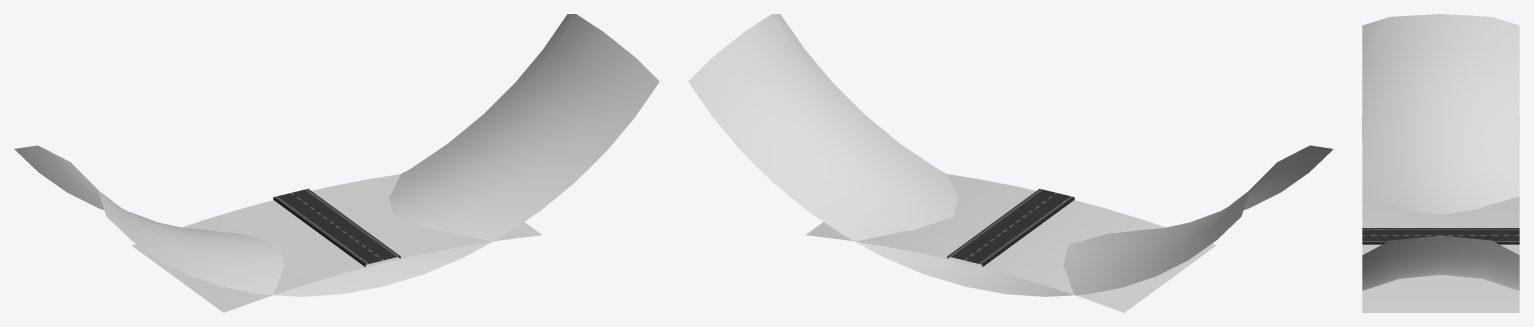
File: high_straight_01.FBX
The picture shows the model from 3 angles, left to right: view 1: azimuth 30°, elevation 25°; view 2: azimuth 150°, elevation 25°; view 3: azimuth 270°, elevation 25°; orthographic projection. The views are drawn at different scales.
Parts seen in each view (by area): view 1: Plane001, Plane004, Box006; view 2: Plane001, Plane004, Box006; view 3: Plane001, Plane004, Box006.
Boxes of the visible parts, bbox=[...] form: Plane001: bbox=[14, 14, 659, 296]; Plane004: bbox=[132, 174, 542, 312]; Box006: bbox=[273, 188, 400, 266]; Plane001: bbox=[688, 14, 1333, 296]; Plane004: bbox=[805, 174, 1215, 312]; Box006: bbox=[947, 188, 1074, 266]; Plane001: bbox=[1362, 14, 1519, 290]; Plane004: bbox=[1362, 196, 1519, 312]; Box006: bbox=[1362, 228, 1519, 244].
Bounding box in the file's own units: 44301 × 11921 × 12865.
